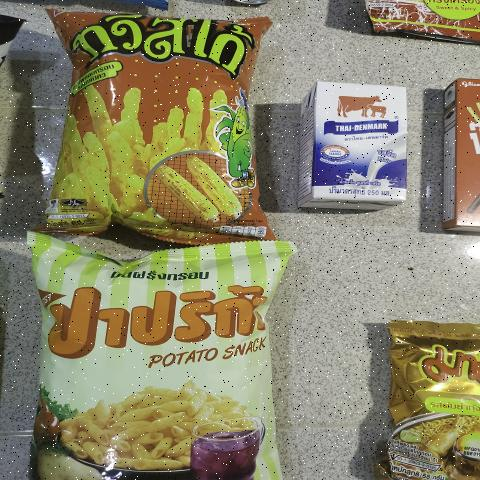paprika: (31, 244, 276, 480)
thai_denmark: (296, 84, 410, 204)
twisco: (60, 6, 262, 232)
